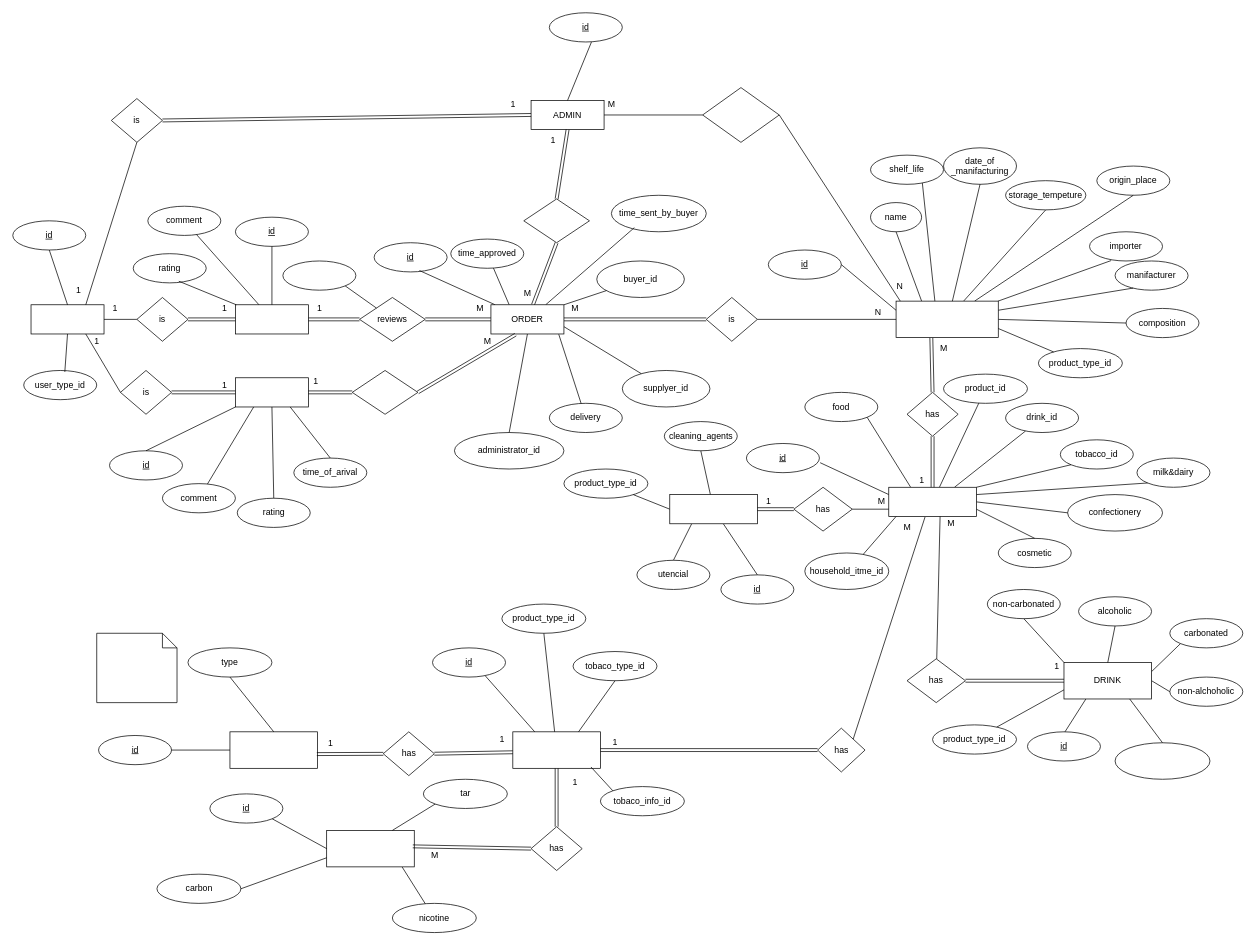
Image size: 1256x945. Some labels were removed from this diagram. The box of each missing label's shape, as (x1, y1, x2, y2) in pixels:
alchohol_ strenght_percentages: (1114, 742, 1210, 779)
aproves: (523, 198, 589, 243)
BUYER: (235, 377, 308, 407)
delivery_time: (282, 260, 356, 290)
HOUSEHOLD_ITEM: (669, 494, 757, 524)
makes_order: (351, 370, 418, 414)
modify, add,delete: (702, 87, 779, 142)
PRODUCT: (895, 300, 998, 338)
PRODUCT_TYPE: (888, 487, 976, 516)
SUPPLYER: (235, 304, 308, 334)
TOBACCO: (512, 731, 600, 768)
TOBACCO INFO: (326, 830, 414, 867)
TOBACCO_TYPE: (229, 731, 318, 768)
type can be box, ciggaret per pice and dry tobacco: (96, 633, 177, 703)
USER: (30, 304, 104, 334)
